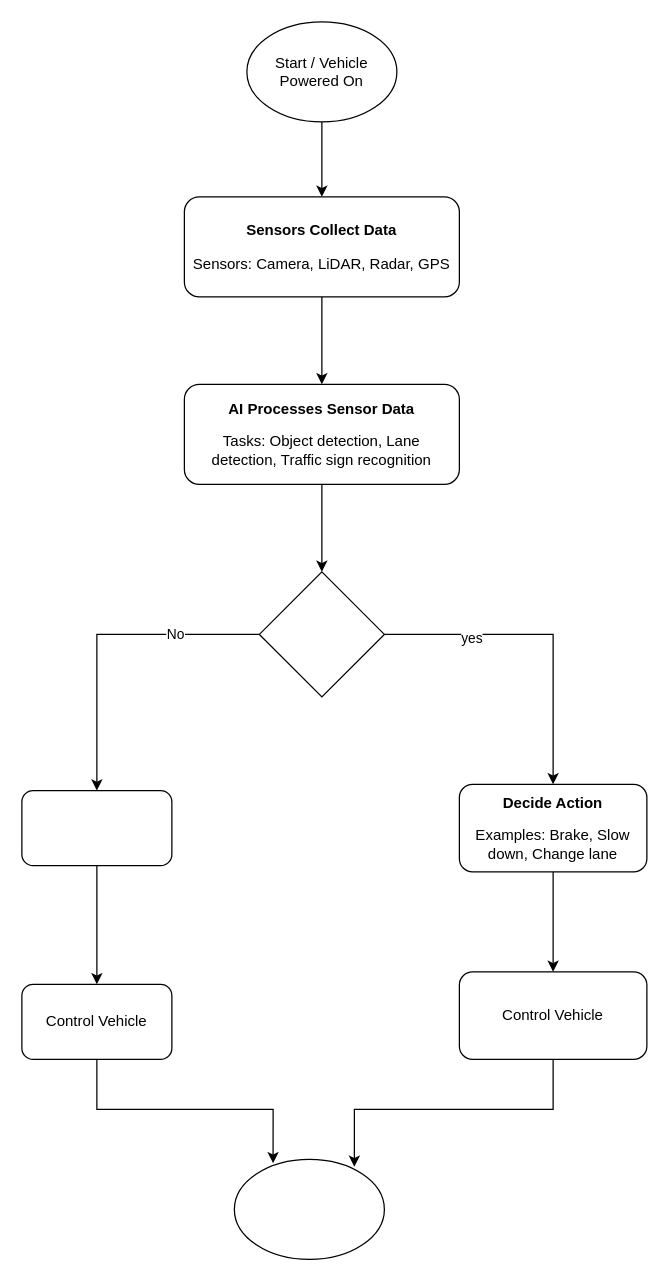
The diagram is 669 pixels wide and 1281 high, and some of its shapes have lost their labels. The centre of each missing label's shape, as x and y in pixels:
"End" belongs at (308,1208).
"Follow Planned Path" belongs at (96,827).
"Obstacle Detected?" belongs at (321,634).
